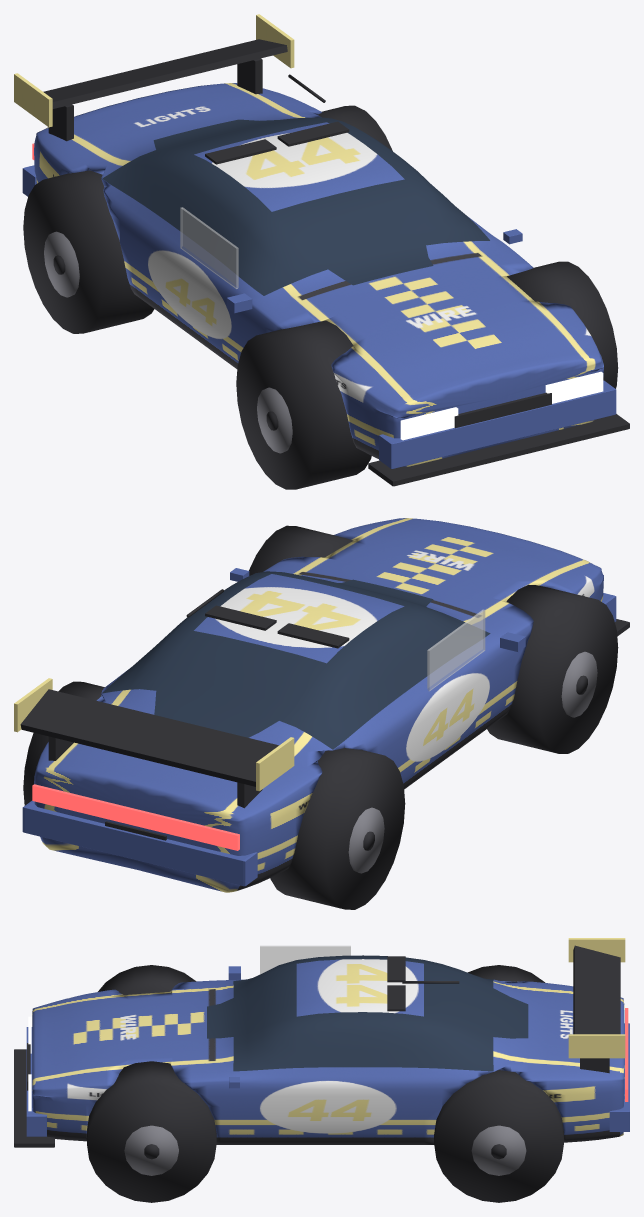
File: car_12.glb
3 renders of one model, top to bottom at view 1: azimuth 30°, elevation 25°; view 2: azimuth 150°, elevation 25°; view 3: azimuth 270°, elevation 25°, orthographic. The views are drawn at different scales.
Visible parts, largest first — view 1: body, cutter, cutter.002, bumperF, spoiler, cutter.001, splitter, net, dish, dish.002, grille, endplate (+8 smaller); view 2: body, cutter, cutter.002, spoiler, bumperR, tail, net, cutter.001, dish, dish.002, cutter.003, endplate (+3 smaller); view 3: body, cutter.001, cutter.003, spoiler, dish.003, dish.001, cutter, splitter, net, endplate.001, endplate, cutter.002 (+5 smaller).
Boxes of the visible parts, box(x1,y1,x2,y2) form: body: box(34, 83, 603, 466); cutter: box(236, 320, 371, 489); cutter.002: box(23, 170, 154, 333); bumperF: box(379, 380, 616, 468); spoiler: box(43, 39, 287, 108); cutter.001: box(507, 261, 618, 388); splitter: box(368, 414, 629, 486); net: box(180, 207, 238, 288); dish: box(257, 387, 292, 453); dish.002: box(44, 231, 79, 297); grille: box(454, 392, 551, 428); endplate: box(14, 73, 52, 127); body: box(34, 518, 603, 892); cutter: box(487, 584, 618, 753); cutter.002: box(270, 748, 405, 909); spoiler: box(20, 689, 278, 786); bumperR: box(22, 801, 257, 886); tail: box(32, 784, 239, 850); net: box(427, 609, 485, 691); cutter.001: box(249, 525, 352, 575); dish: box(561, 651, 597, 717); dish.002: box(348, 807, 384, 873); cutter.003: box(23, 681, 104, 805); endplate: box(256, 737, 294, 791); body: box(32, 955, 624, 1144); cutter.001: box(87, 1061, 216, 1202); cutter.003: box(434, 1070, 563, 1202); spoiler: box(573, 945, 620, 1034); dish.003: box(471, 1125, 526, 1175); dish.001: box(124, 1125, 178, 1175); cutter: box(98, 965, 196, 995); splitter: box(14, 1049, 54, 1147); net: box(260, 945, 350, 974); endplate.001: box(568, 1034, 625, 1058); endplate: box(568, 938, 625, 962); cutter.002: box(468, 965, 545, 982).
Size of the model in its own units: 2.58 by 1.76 by 5.41.
Materials: 11 (1 with a texture image).
